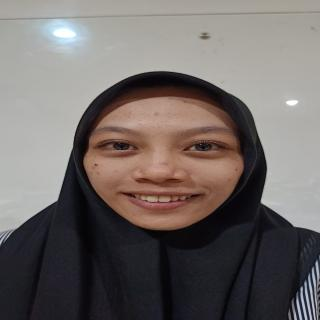Senang: (84, 88, 257, 237)
